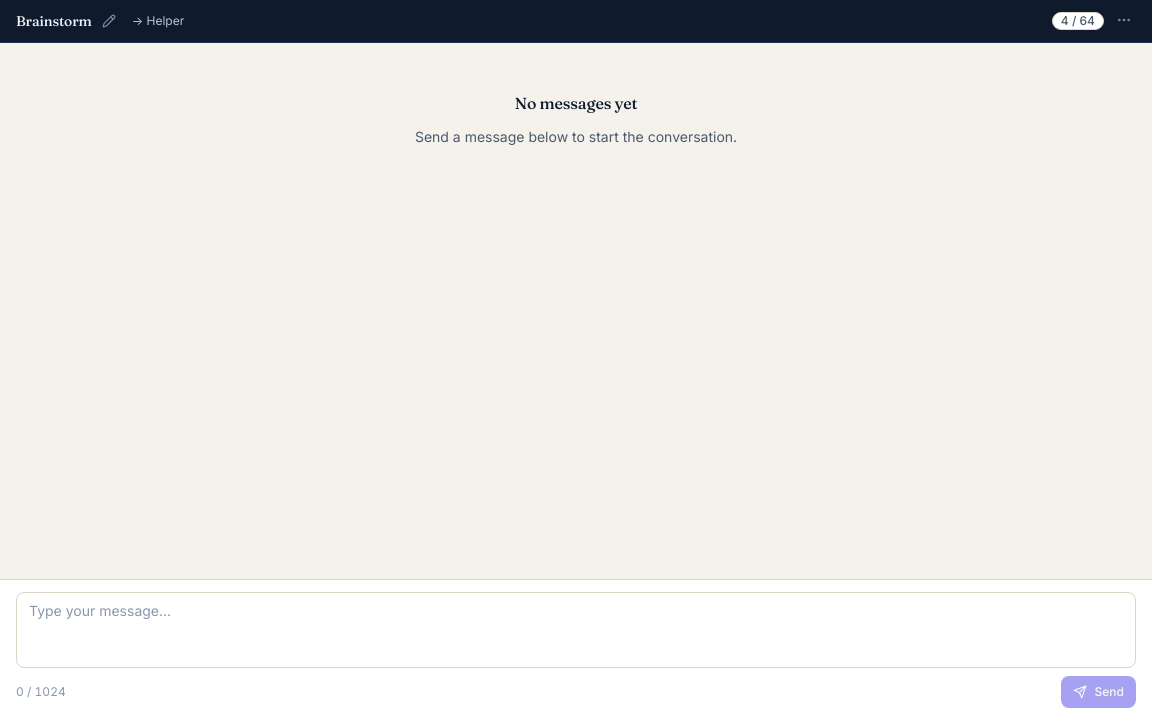
it: ConversationView — SSE wiring › golden path: type + Cmd+Enter streams; bubble grows; completed commits assistant message
Type "hi" into the text box with test id "composer-textarea" at x=576, y=630, box [16,592,1136,668]
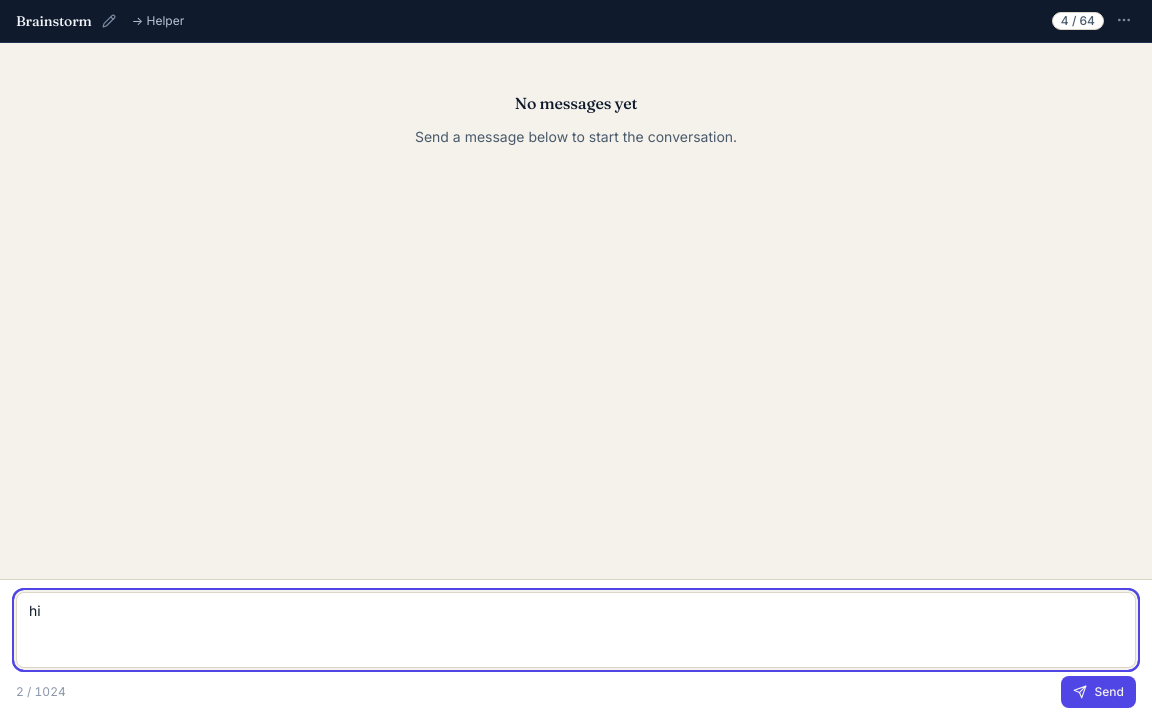
Type keys "{Control>}{Enter}{/Control}"
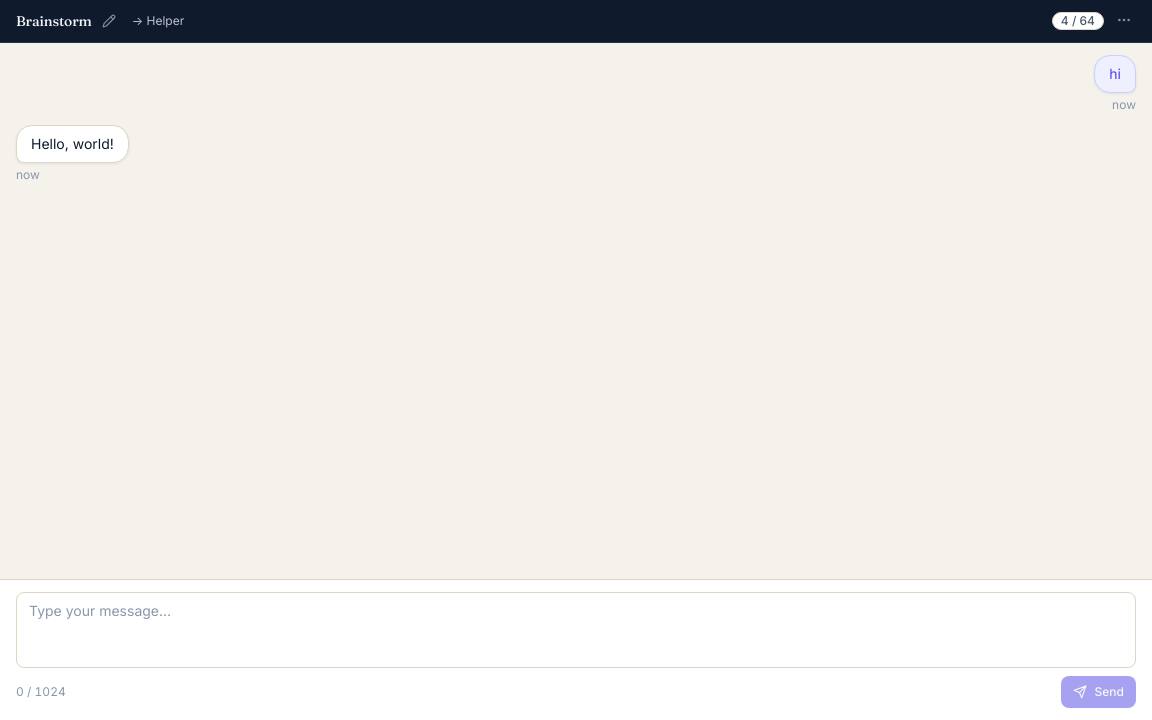
Result: the text "Hello, world!" is shown at [16,125,129,163]
